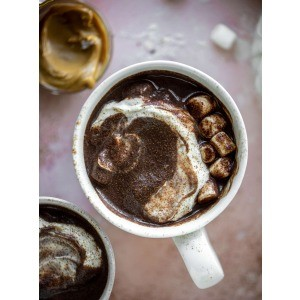peanut butter_brain food: (93, 85, 222, 219), (51, 5, 109, 72), (44, 242, 101, 295)
